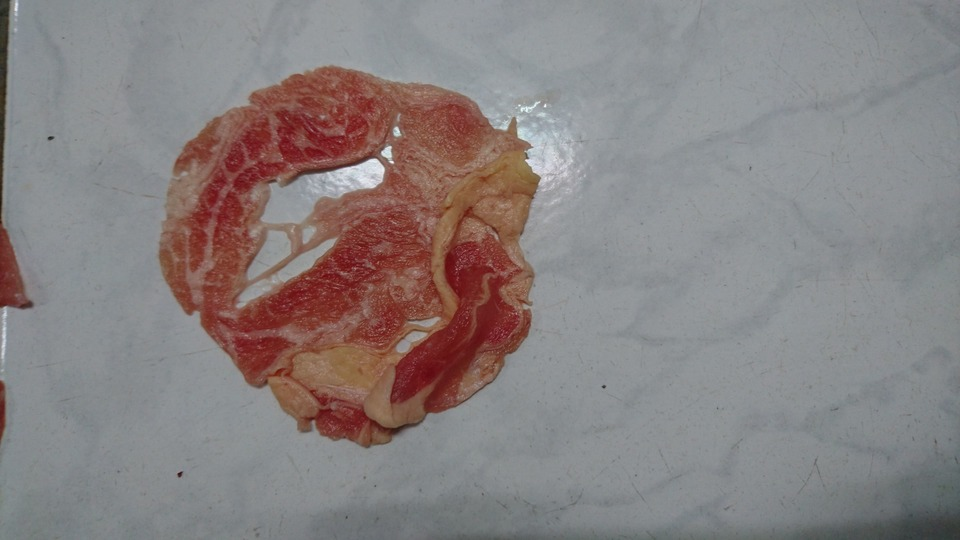restructured meat: (146, 72, 555, 452)
